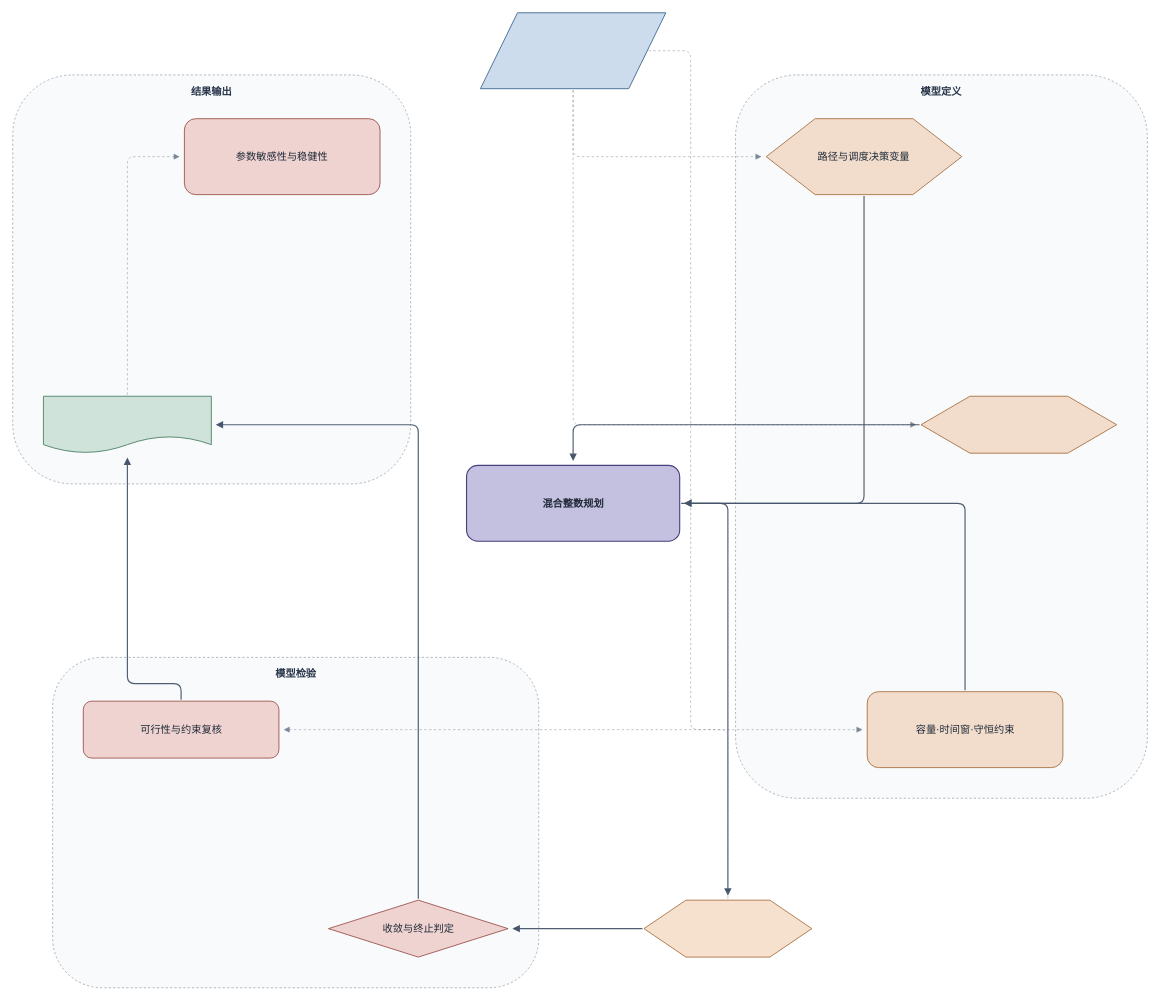
Image size: 1161x1001. Some labels were removed from this diagram. Each missing label, with the centre of its shape:
任务场景与输入参数: (573,50)
总成本最小化目标: (1018,424)
最优调度方案: (127,424)
遗传算法: (727,928)
